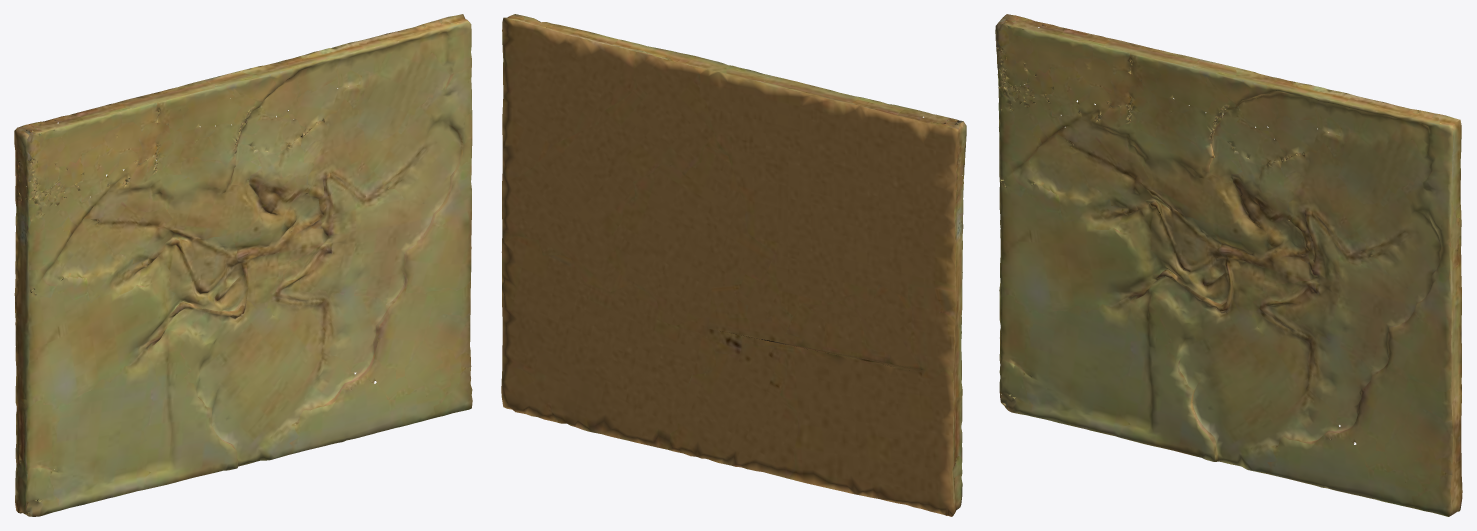
File: archaeopteryx.glb
3 renders of one model, left to right at view 1: azimuth 30°, elevation 25°; view 2: azimuth 150°, elevation 25°; view 3: azimuth 330°, elevation 25°, orthographic.
Parts seen in each view (by area): view 1: Smithsonian source orientation; view 2: Smithsonian source orientation; view 3: Smithsonian source orientation.
Boxes of the visible parts, <box> form: Smithsonian source orientation: <box>14,14,472,516</box>; Smithsonian source orientation: <box>501,14,966,516</box>; Smithsonian source orientation: <box>995,14,1462,516</box>.
Bounding box in the file's own units: 0.495 × 0.41 × 0.0275.
Materials: 1 (1 with a texture image).
